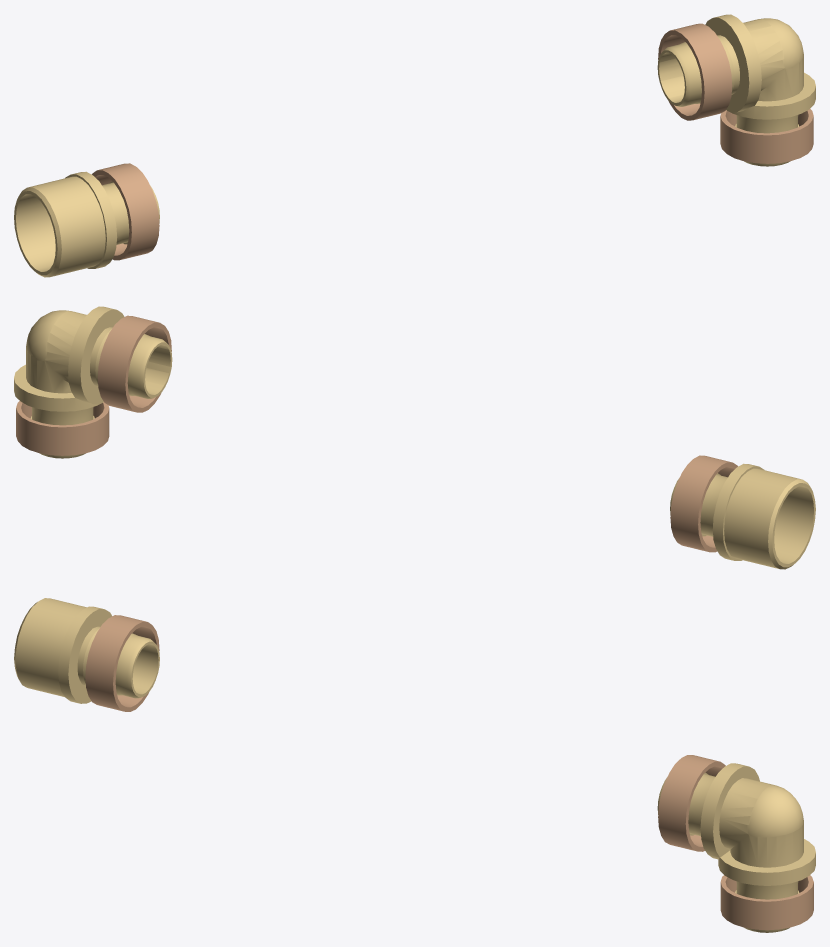
Rendered from pipes_supply__water_heater__75f64457__r4y.glb.
3 views of the same model, one above another, from view 1: azimuth 30°, elevation 25°; view 2: azimuth 150°, elevation 25°; view 3: azimuth 330°, elevation 25° (orthographic).
Visible parts, largest first — view 1: fit_pexelbow_pipe_supply_hot_wh_attic__pex_0, fit_adapter_pipe_supply_hot_wh_attic__pex; view 2: fit_pexelbow_pipe_supply_hot_wh_attic__pex_0, fit_adapter_pipe_supply_hot_wh_attic__pex; view 3: fit_pexelbow_pipe_supply_hot_wh_attic__pex_0, fit_adapter_pipe_supply_hot_wh_attic__pex.
Boxes of the visible parts, bbox=[...] form: fit_pexelbow_pipe_supply_hot_wh_attic__pex_0: bbox=[657, 14, 815, 166]; fit_adapter_pipe_supply_hot_wh_attic__pex: bbox=[14, 163, 159, 277]; fit_pexelbow_pipe_supply_hot_wh_attic__pex_0: bbox=[14, 306, 172, 458]; fit_adapter_pipe_supply_hot_wh_attic__pex: bbox=[670, 455, 815, 569]; fit_pexelbow_pipe_supply_hot_wh_attic__pex_0: bbox=[657, 755, 815, 932]; fit_adapter_pipe_supply_hot_wh_attic__pex: bbox=[14, 598, 159, 711].
Bounding box in the file's own units: 0.2322 × 0.0413 × 0.0254.
